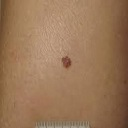Melanoma: (59, 55, 74, 70)
